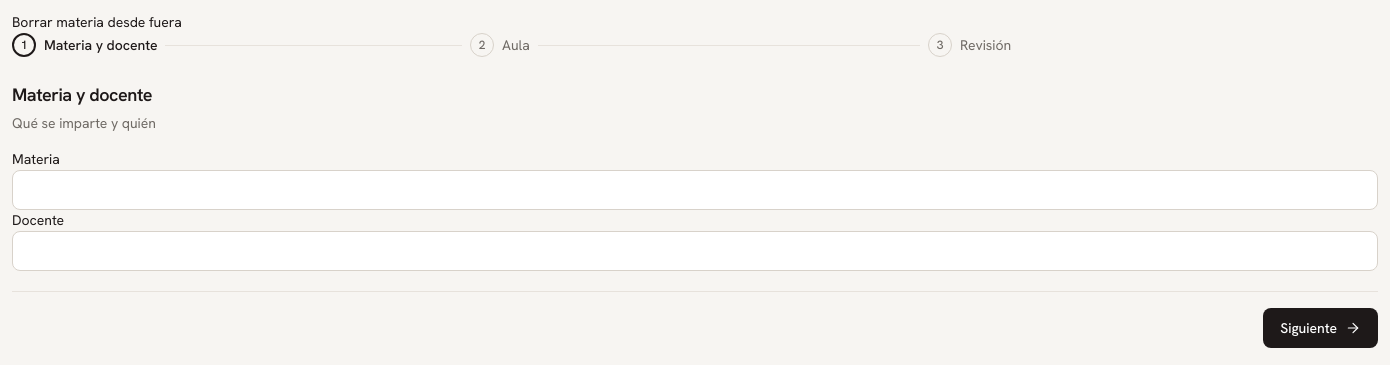
Scenario: Asistente · navegación y validación por paso › Enter dentro de un campo avanza igual que «Siguiente»
The image size is (1390, 365).
In the field labelled "Materia": x=695, y=190 [12,170,1378,210], type "Álgebra"
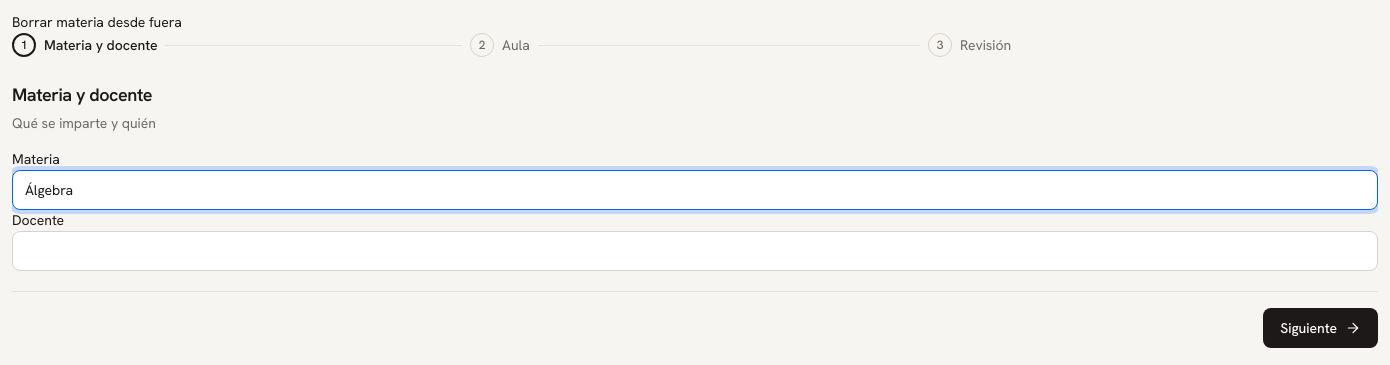
In the field labelled "Docente": x=695, y=251 [12,231,1378,271], type "Ana"
Then press Enter
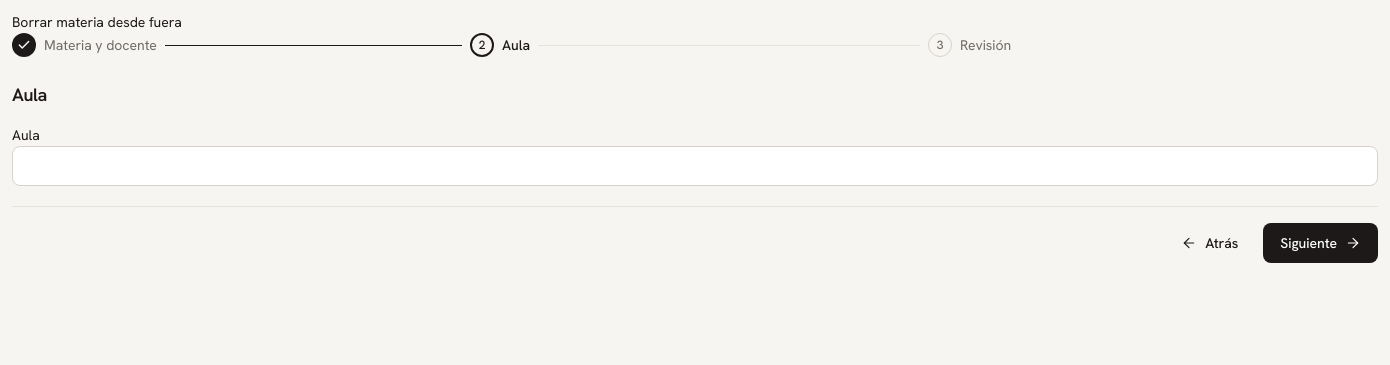
Expected: the heading "Aula" is shown, [12,83,47,106]
